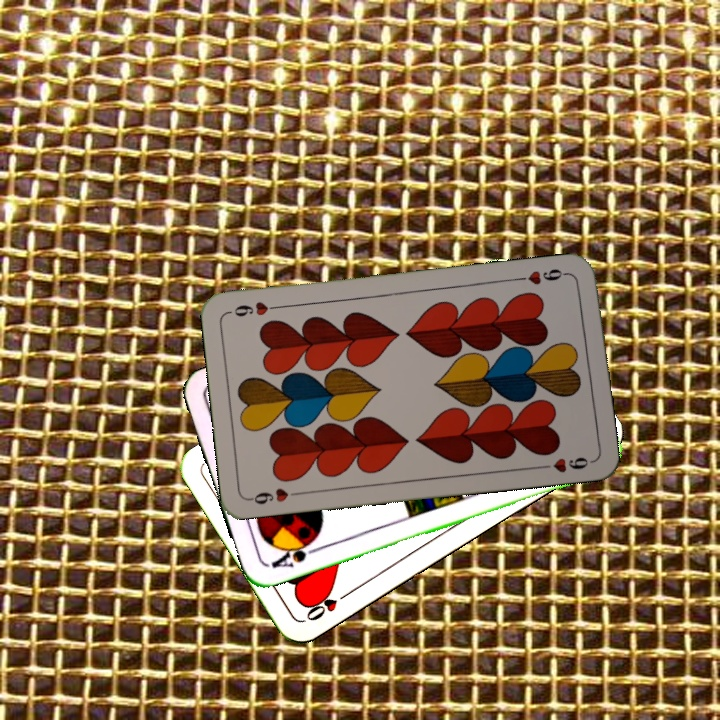H9: (513, 264, 573, 288), (246, 484, 305, 507)
HO: (302, 587, 354, 624)
SA: (267, 534, 323, 571)
